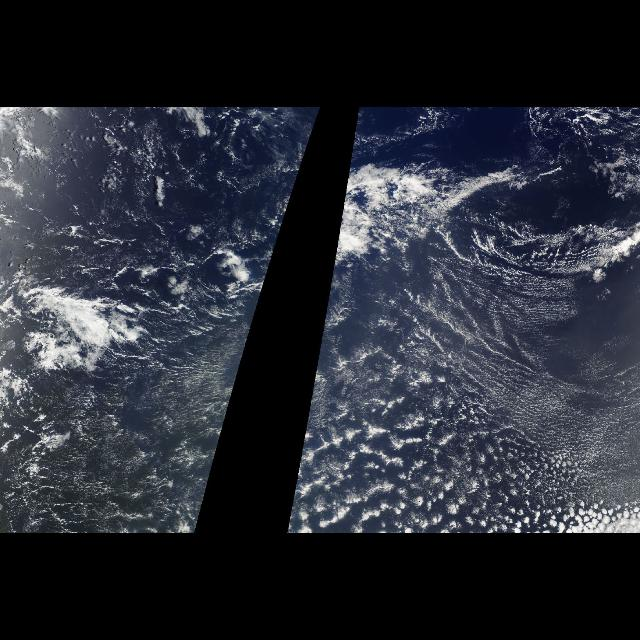Flower: (518, 503, 638, 533)
Gravel: (316, 382, 636, 532), (110, 226, 244, 342)
Sugar: (318, 274, 638, 532), (6, 350, 234, 532)
